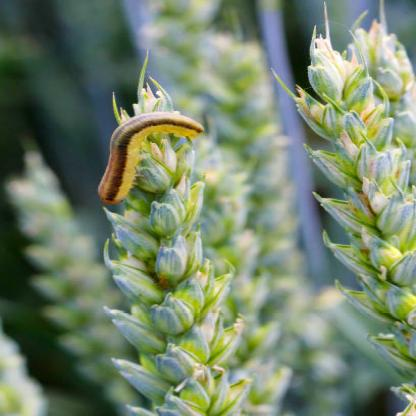sawfly: (85, 105, 216, 213)
